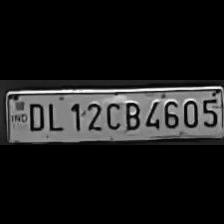0: (180, 96, 198, 127)
1: (66, 99, 82, 131)
2: (82, 98, 102, 132)
4: (142, 97, 160, 128)
5: (200, 94, 220, 126)
6: (161, 96, 179, 128)
B: (120, 97, 140, 129)
C: (104, 98, 120, 130)
D: (24, 99, 46, 131)
L: (45, 98, 63, 132)
